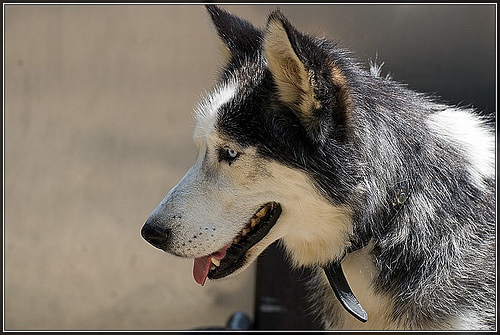dog: (138, 4, 496, 332)
